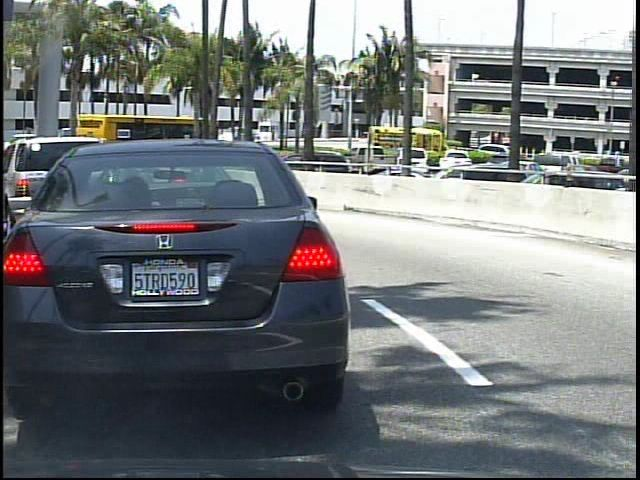car: (14, 121, 347, 426)
